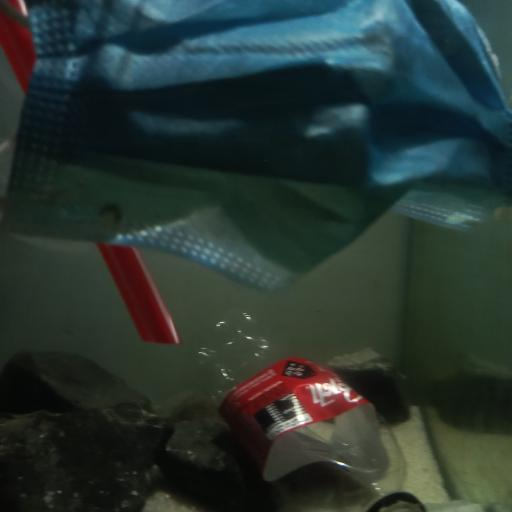mask: (0, 0, 512, 296)
plastic_bottle: (191, 310, 427, 512)
plastic_straw: (0, 0, 186, 345)
